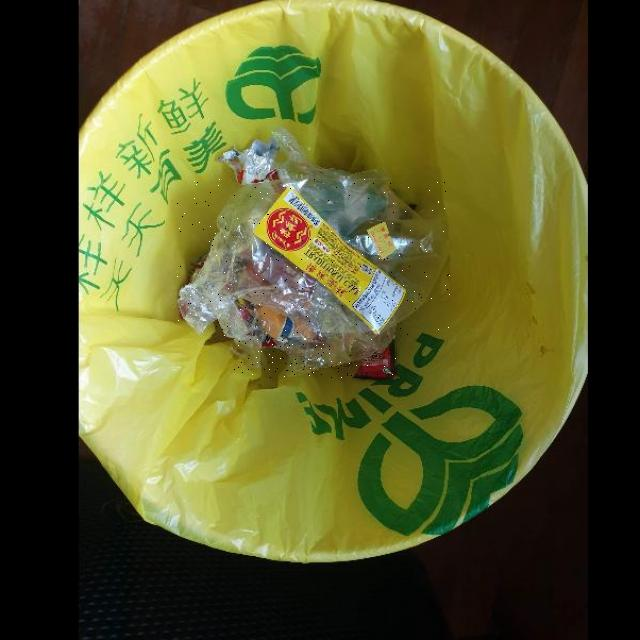plastic: (174, 177, 450, 338), (234, 287, 393, 377)
wrapper: (352, 337, 396, 380)
